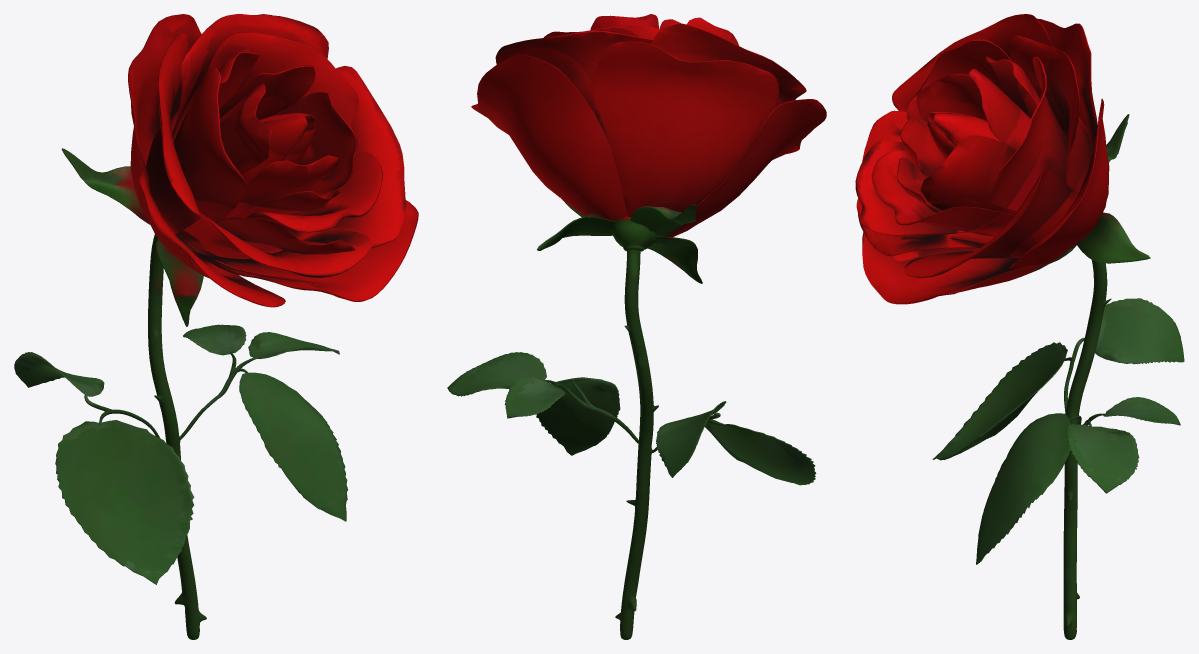
The model's file is rose.glb.
3 renders of one model, left to right at view 1: azimuth 30°, elevation 25°; view 2: azimuth 150°, elevation 25°; view 3: azimuth 270°, elevation 25°, orthographic. The views are drawn at different scales.
Parts seen in each view (by area): view 1: node_id30_1; view 2: node_id30_1; view 3: node_id30_1.
Part boxes in pixels (x1,y1,x2,y2): node_id30_1: (14, 14, 418, 639); node_id30_1: (447, 14, 826, 639); node_id30_1: (855, 14, 1184, 639).
Size of the model in its own units: 0.5542 by 1 by 0.4921.
1 material, 1 textured.
